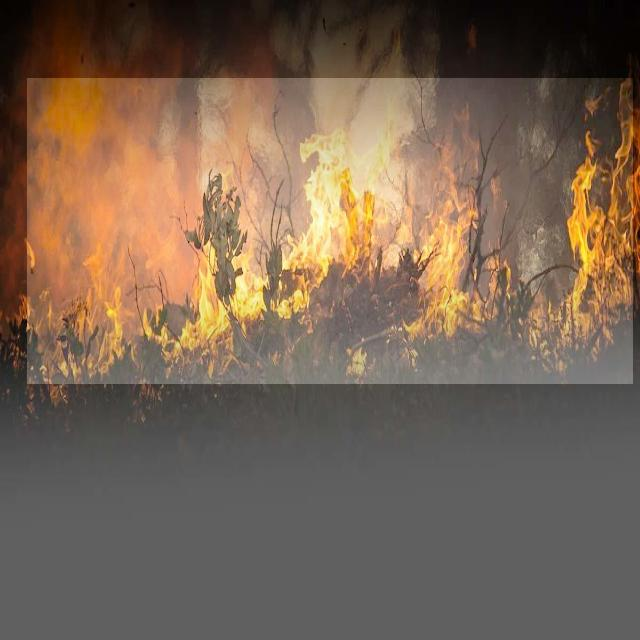Fire: (27, 78, 634, 384)
